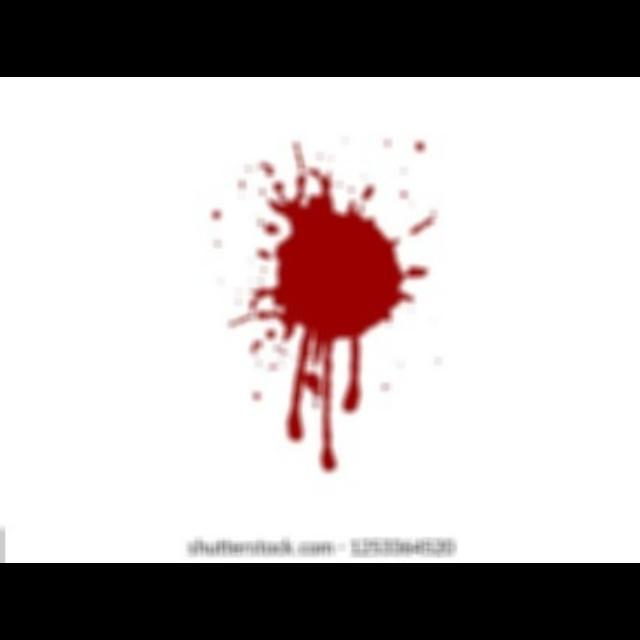blood: (249, 166, 430, 472)
